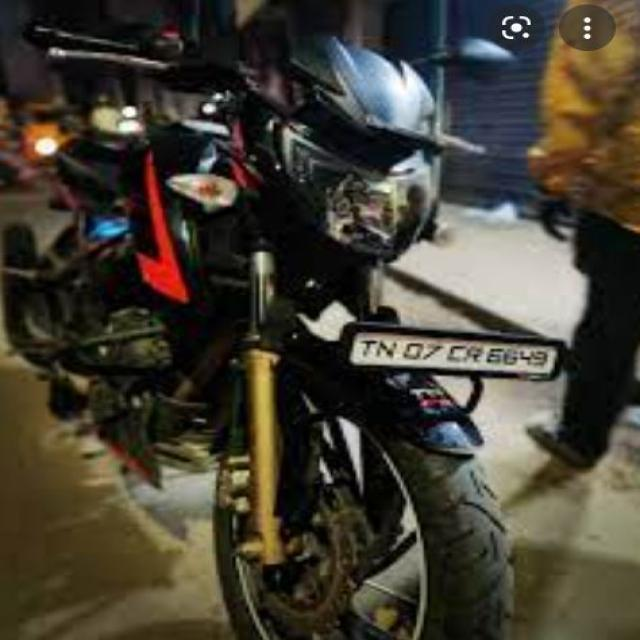number plate: (344, 326, 564, 381)
